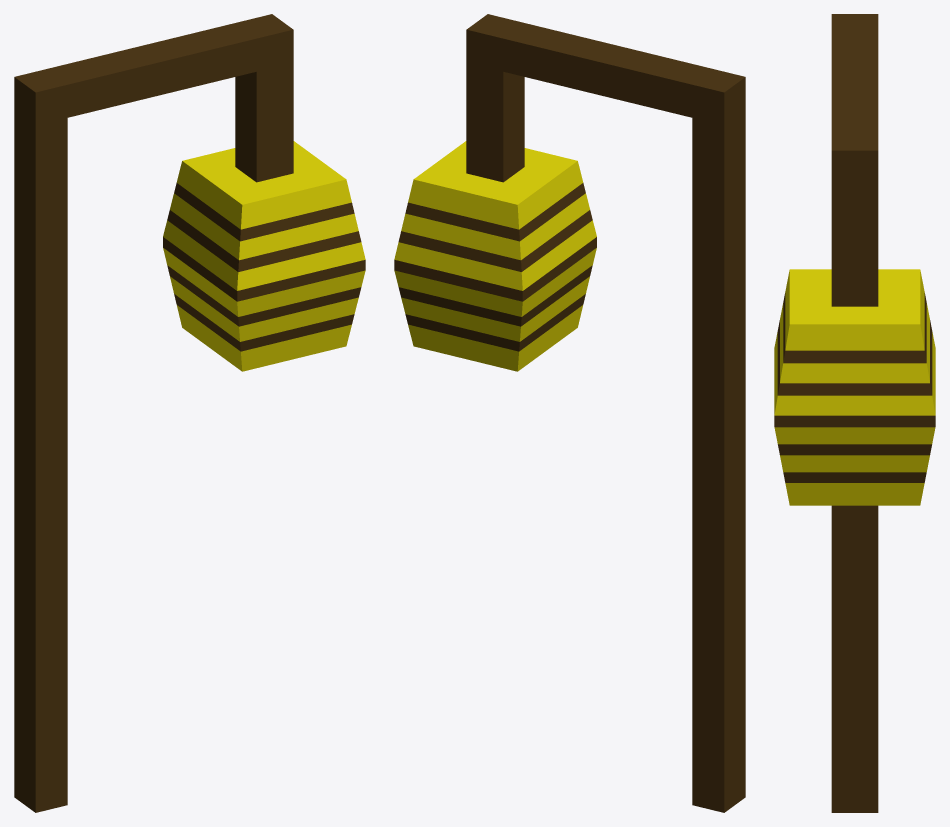
Rendered from beehive.fbx.
The picture shows the model from 3 angles, left to right: view 1: azimuth 30°, elevation 25°; view 2: azimuth 150°, elevation 25°; view 3: azimuth 270°, elevation 25°; orthographic projection. The views are drawn at different scales.
Parts seen in each view (by area): view 1: Cube.001; view 2: Cube.001; view 3: Cube.001.
Boxes of the visible parts, left/top/right/bottom form: Cube.001: left=14, top=14, right=365, bottom=812; Cube.001: left=394, top=14, right=745, bottom=812; Cube.001: left=774, top=14, right=935, bottom=812.
Bounding box in the file's own units: 583 × 1322 × 247.
